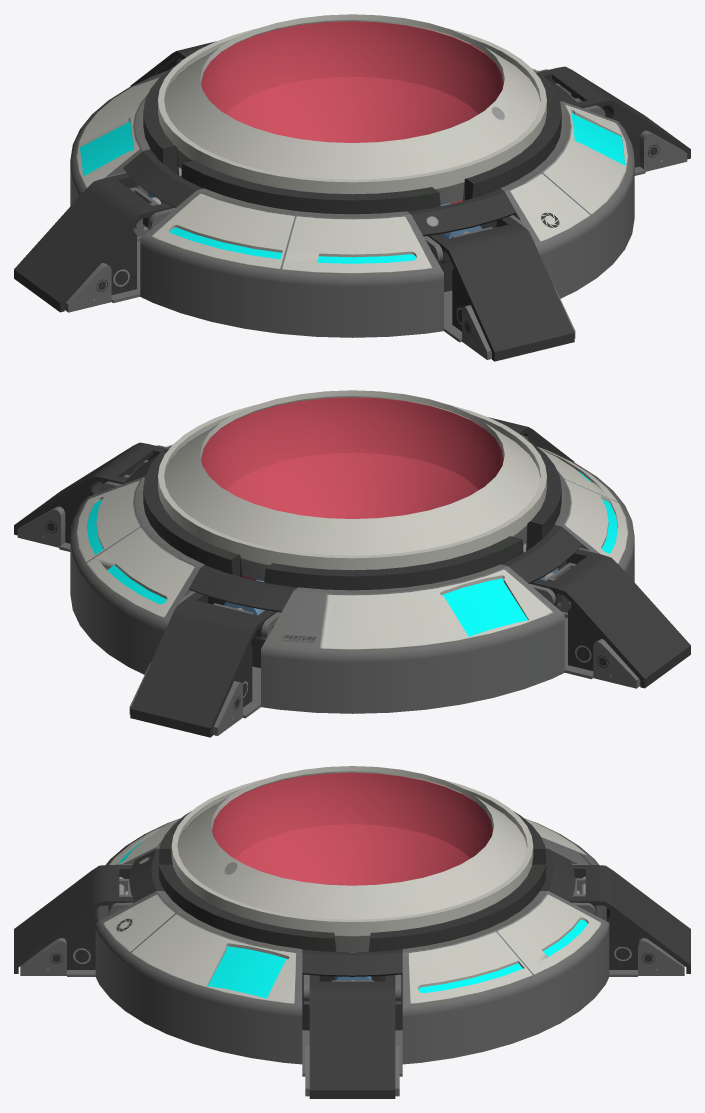
File: button_sphere.glb
3 views of the same model, one above another, from view 1: azimuth 30°, elevation 25°; view 2: azimuth 150°, elevation 25°; view 3: azimuth 270°, elevation 25° (orthographic). The views are drawn at different scales.
Parts seen in each view (by area): view 1: button_globe; view 2: button_globe; view 3: button_globe.
Part boxes in pixels (bbox=[...]): button_globe: bbox=[14, 14, 690, 361]; button_globe: bbox=[14, 390, 690, 737]; button_globe: bbox=[14, 766, 690, 1098].
Bounding box in the file's own units: 1.65 × 0.3497 × 1.65.
1 material, 1 textured.
